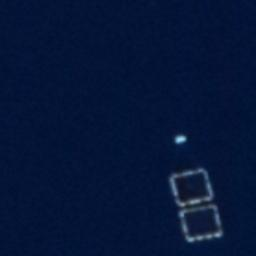square_solid: (166, 165, 218, 209), (176, 201, 227, 244)
